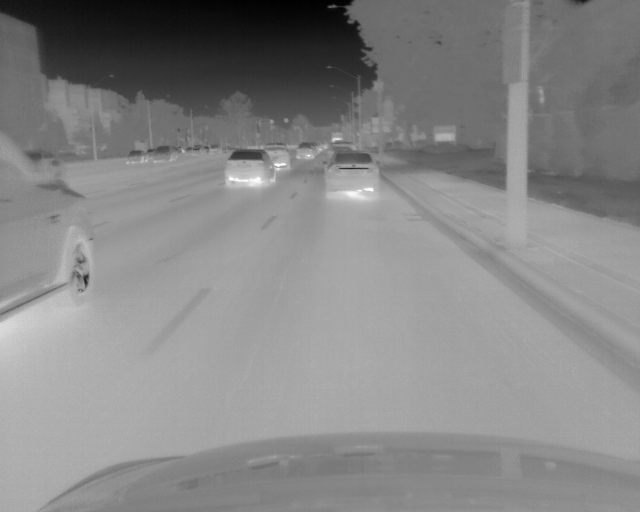car: (1, 141, 96, 321), (321, 151, 382, 196), (223, 148, 276, 187), (265, 144, 290, 169), (151, 145, 178, 163), (326, 142, 358, 157), (294, 141, 315, 159), (124, 149, 148, 164), (185, 144, 205, 155), (313, 140, 325, 155)
